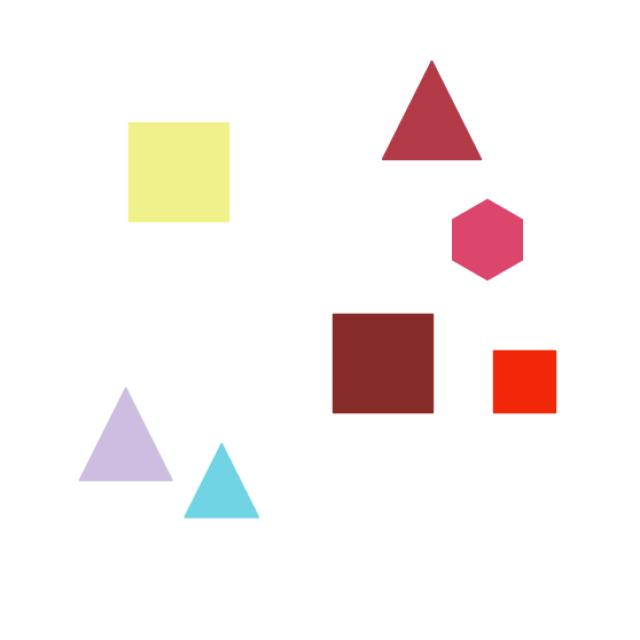Hexagon: (432, 189, 540, 292)
Triangle: (374, 49, 506, 176), (48, 373, 180, 492), (178, 431, 275, 532)
square: (320, 303, 463, 425), (118, 113, 258, 235), (484, 334, 586, 439)
